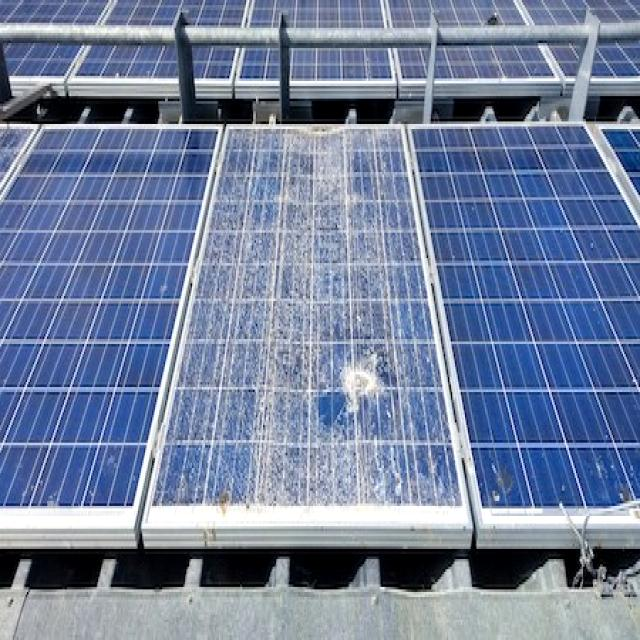hotspot: (310, 344, 404, 448)
